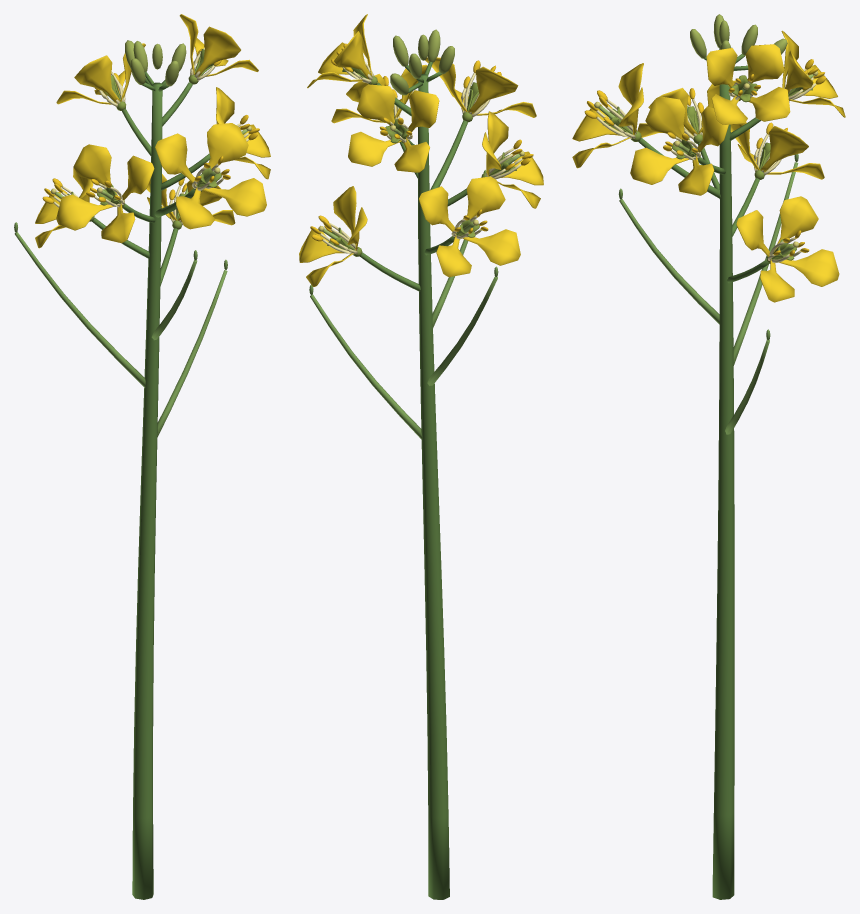
The model's file is flower-brassica-low.glb.
The picture shows the model from 3 angles, left to right: view 1: azimuth 30°, elevation 25°; view 2: azimuth 150°, elevation 25°; view 3: azimuth 270°, elevation 25°; orthographic projection. The views are drawn at different scales.
Visible parts, largest first — view 1: raceme_flowers, stem, hero_petals, pods, buds; view 2: raceme_flowers, stem, pods, buds, hero_petals, hero_pedicel; view 3: raceme_flowers, stem, pods, hero_petals, buds, hero_stamens.
Boxes of the visible parts, box(x1,y1,x2,y2) form: raceme_flowers: box(35, 14, 270, 286); stem: box(132, 82, 162, 899); hero_petals: box(155, 123, 266, 229); pods: box(14, 222, 227, 437); buds: box(125, 40, 186, 91); raceme_flowers: box(299, 14, 543, 291); stem: box(418, 73, 449, 899); pods: box(309, 170, 498, 439); buds: box(390, 29, 454, 95); hero_petals: box(425, 57, 536, 117); hero_pedicel: box(430, 120, 467, 189); raceme_flowers: box(630, 30, 845, 302); stem: box(712, 84, 734, 899); pods: box(618, 154, 798, 434); hero_petals: box(572, 63, 643, 168); buds: box(690, 14, 787, 70); hero_stamens: box(584, 90, 636, 138).
Bounding box in the file's own units: 3.51 × 13.67 × 3.83.
